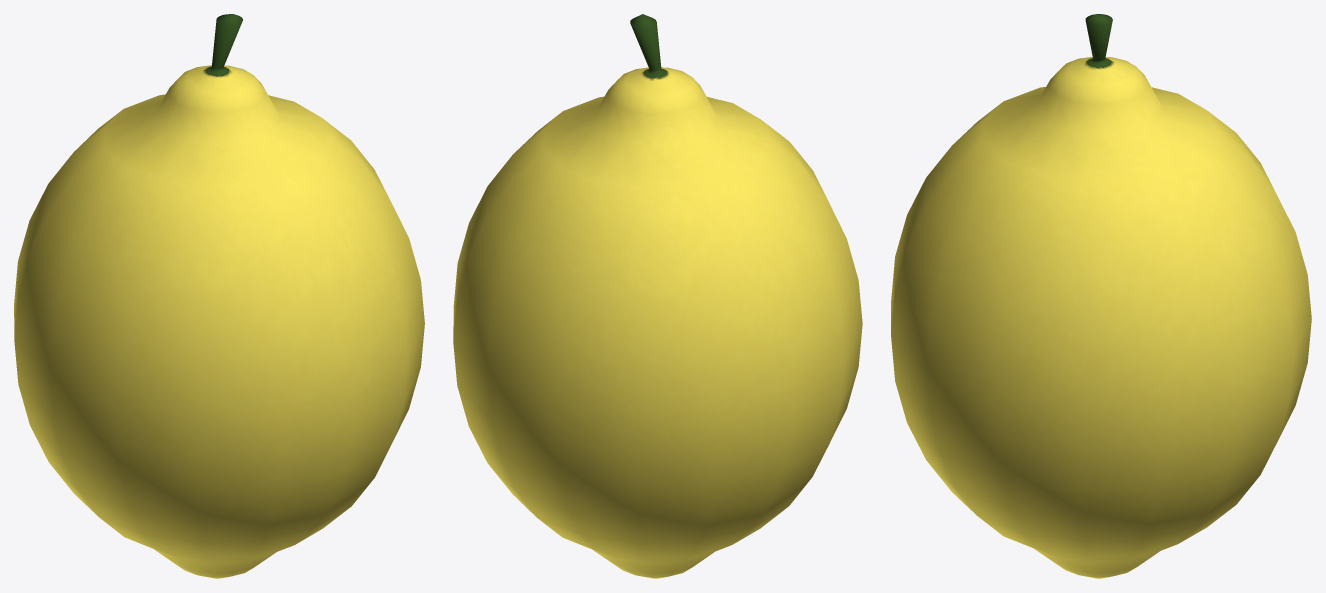
The model's file is Limone.fbx.
3 renders of one model, left to right at view 1: azimuth 30°, elevation 25°; view 2: azimuth 150°, elevation 25°; view 3: azimuth 270°, elevation 25°, orthographic. The views are drawn at different scales.
Visible parts, largest first — view 1: Limone; view 2: Limone; view 3: Limone.
Boxes of the visible parts, box(x1,y1,x2,y2) form: Limone: box(14, 14, 424, 578); Limone: box(453, 14, 862, 578); Limone: box(891, 14, 1311, 578).
Bounding box in the file's own units: 229 × 346 × 230.
